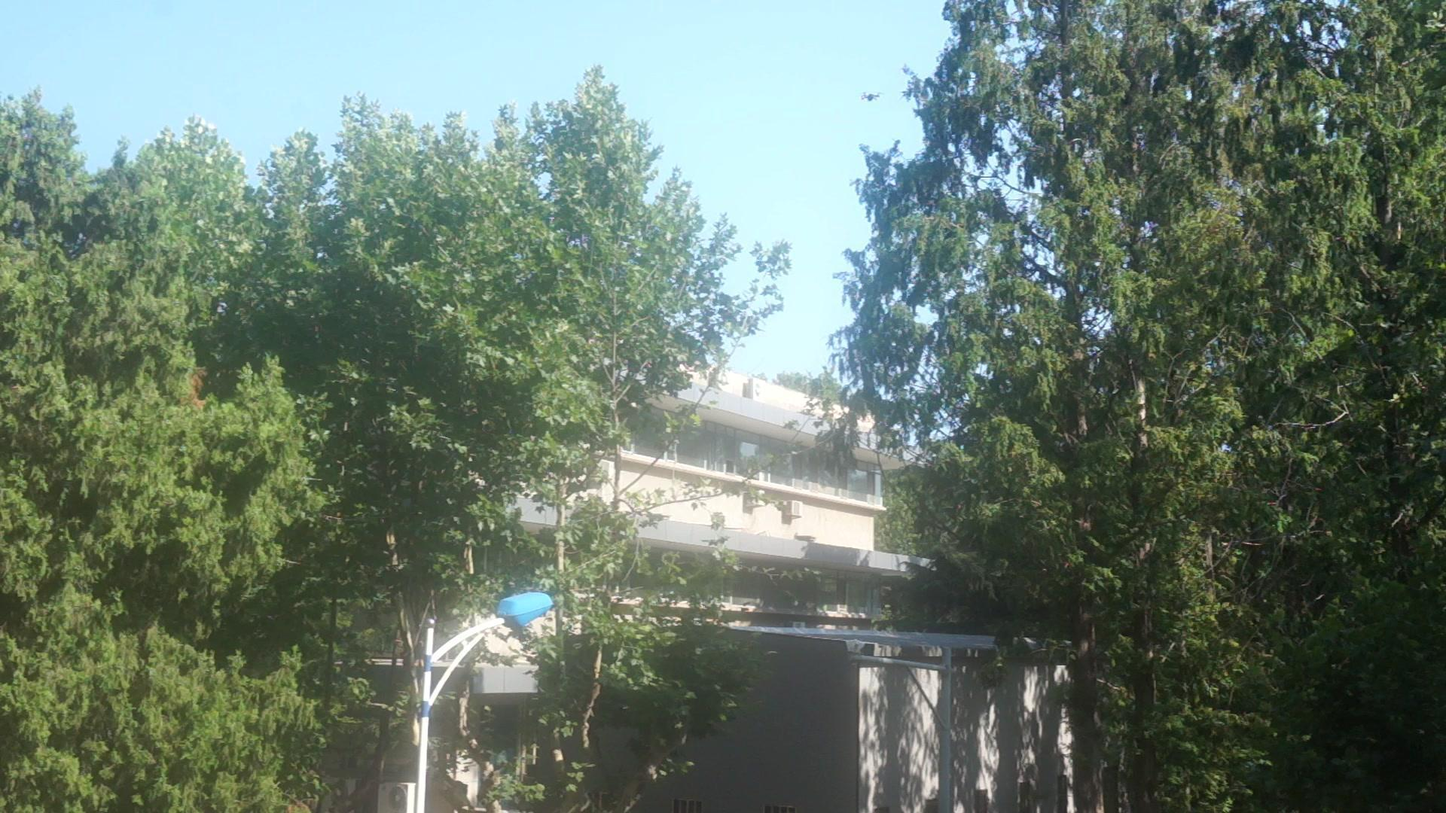UAV: (862, 93, 883, 102)
